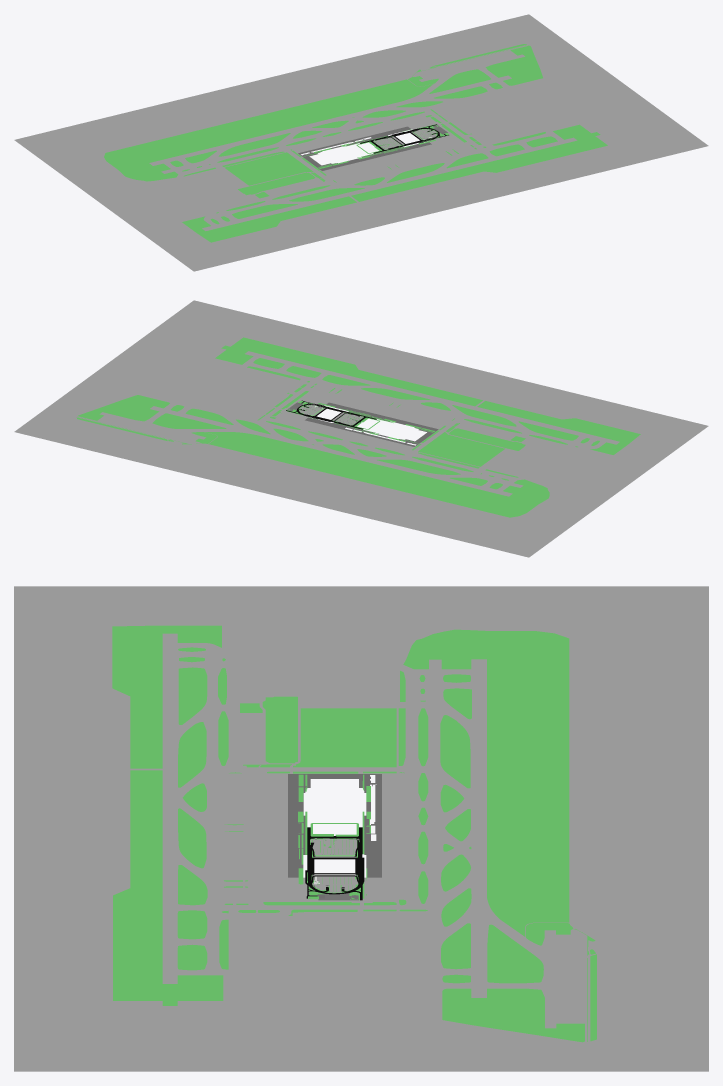
File: T12_PLANES.fbx
The picture shows the model from 3 angles, top to bottom: view 1: azimuth 30°, elevation 25°; view 2: azimuth 150°, elevation 25°; view 3: azimuth 270°, elevation 25°; orthographic projection. The views are drawn at different scales.
Visible parts, largest first — view 1: polySurface2904, polySurface3028, polySurface2831, pPlane304; view 2: polySurface2904, polySurface3028, polySurface2831, pPlane304; view 3: polySurface2904, polySurface3028, polySurface2831, pPlane304, pPlane335.
Boxes of the visible parts, x1,y1,x2,y2 form: polySurface2904: [14, 14, 708, 271]; polySurface3028: [104, 44, 607, 242]; polySurface2831: [298, 126, 448, 170]; pPlane304: [360, 132, 418, 153]; polySurface2904: [14, 300, 708, 557]; polySurface3028: [76, 337, 640, 517]; polySurface2831: [297, 402, 438, 446]; pPlane304: [318, 408, 376, 429]; polySurface2904: [14, 586, 708, 1071]; polySurface3028: [112, 625, 596, 1042]; polySurface2831: [288, 774, 381, 898]; pPlane304: [307, 827, 364, 870]; pPlane335: [305, 869, 364, 900].
Size of the model in its own units: 5579 by 10.52 by 3377.
